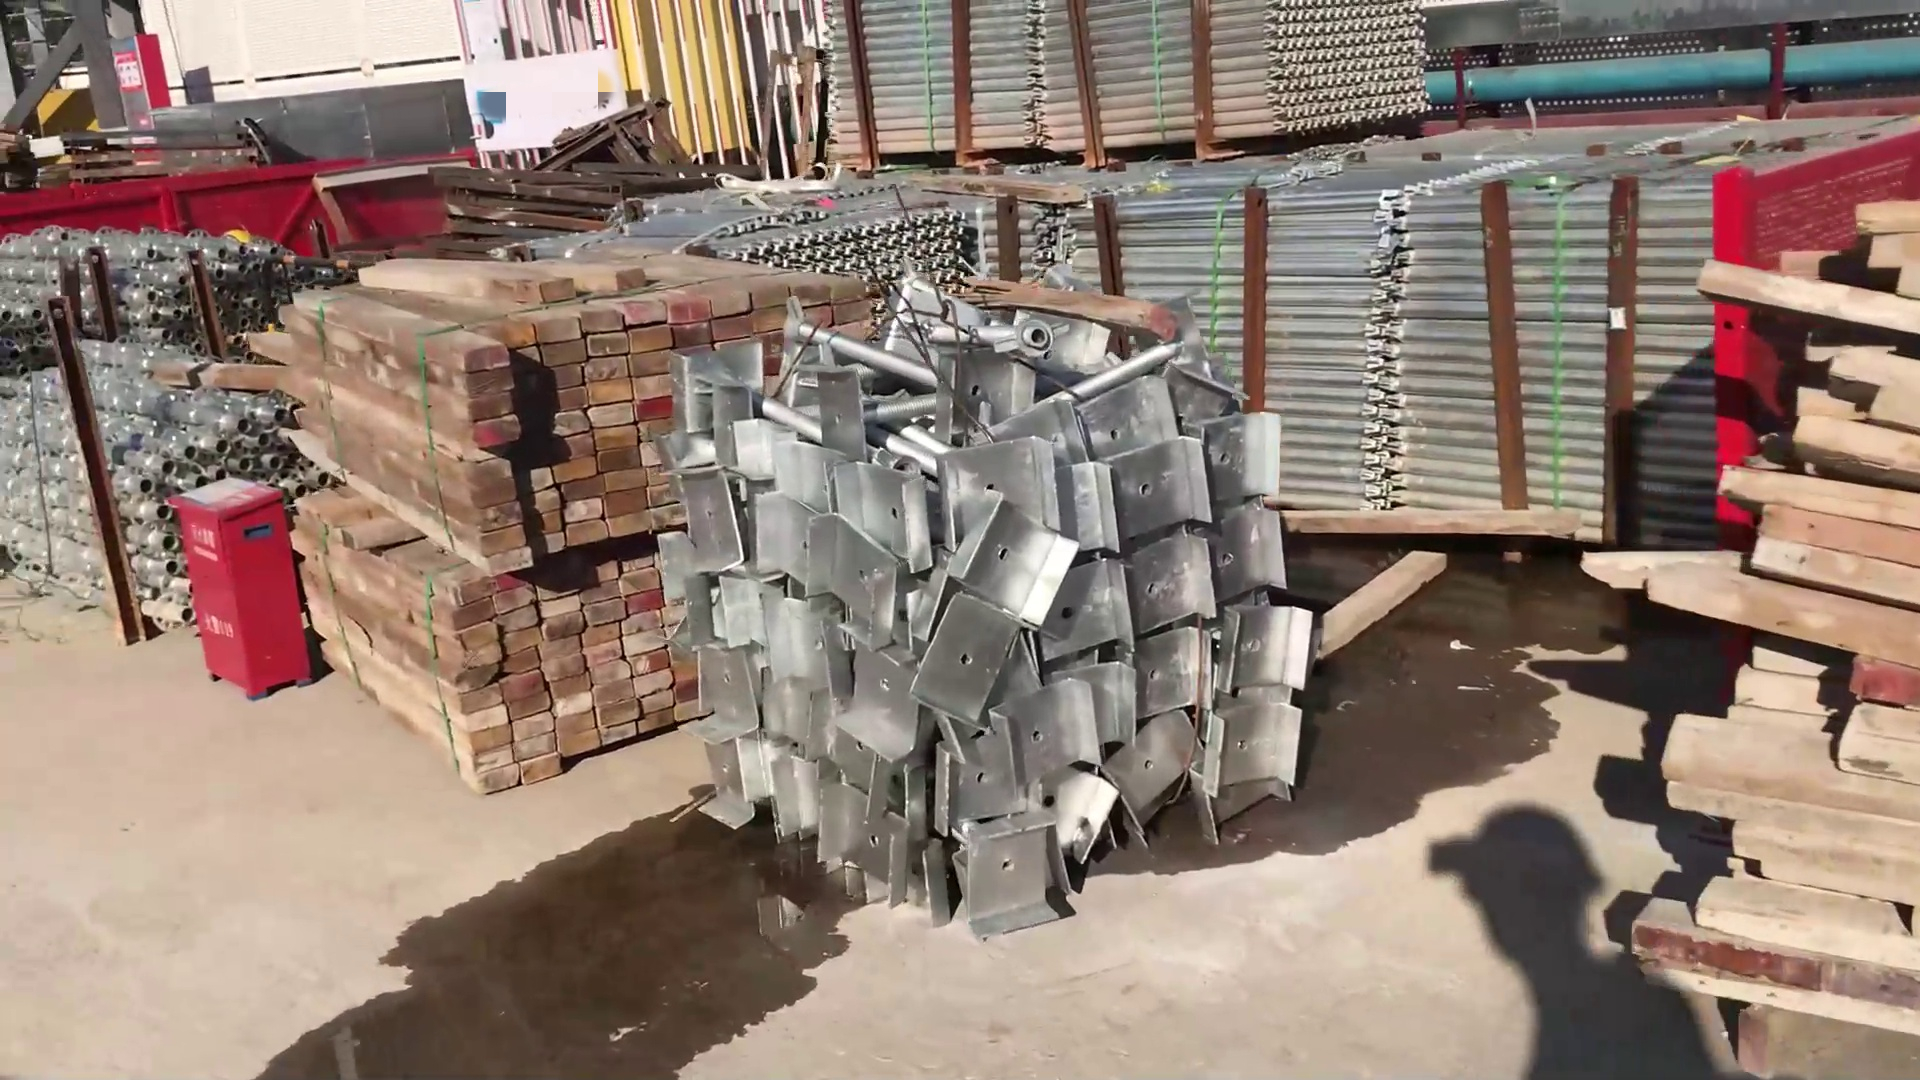fence: (131, 165, 438, 237)
scaffold: (1109, 169, 1644, 529), (7, 224, 276, 632), (828, 1, 1444, 127), (713, 193, 1040, 301)
wood: (1606, 200, 1920, 1002), (284, 247, 736, 791)
